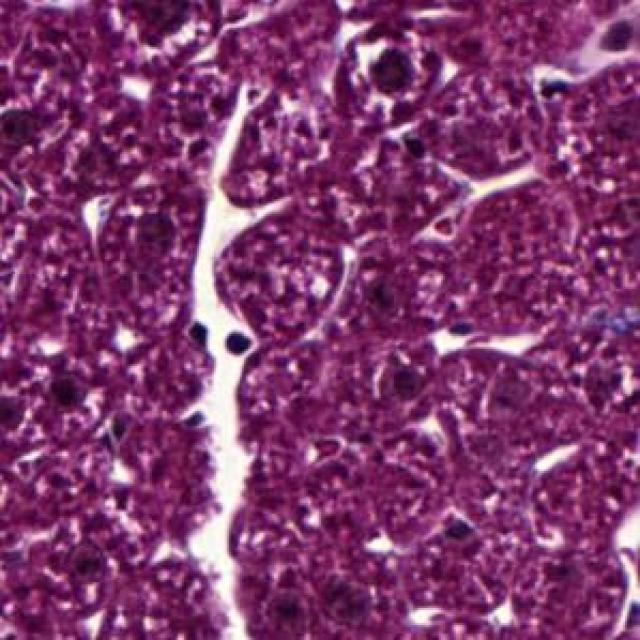inflammation: (351, 34, 458, 122), (370, 349, 439, 417)
